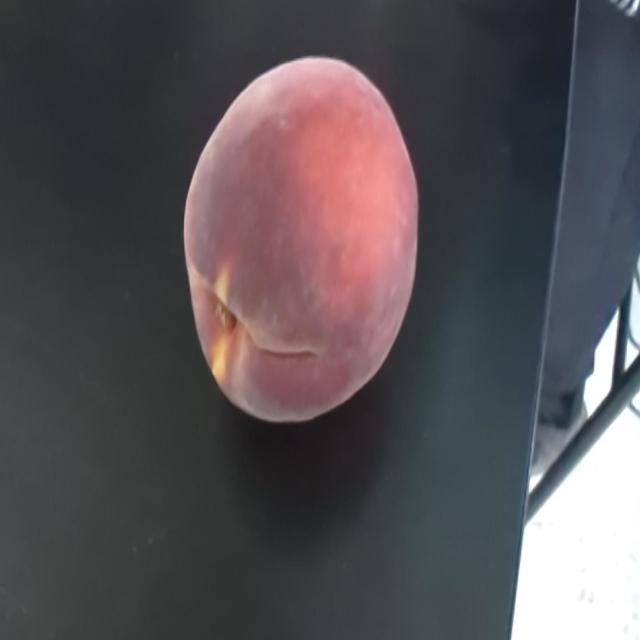Persik: (168, 49, 426, 432)
